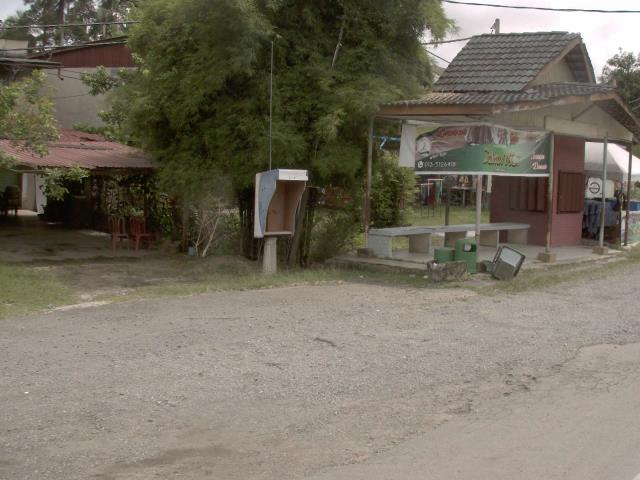ads_sign: (404, 115, 561, 189)
